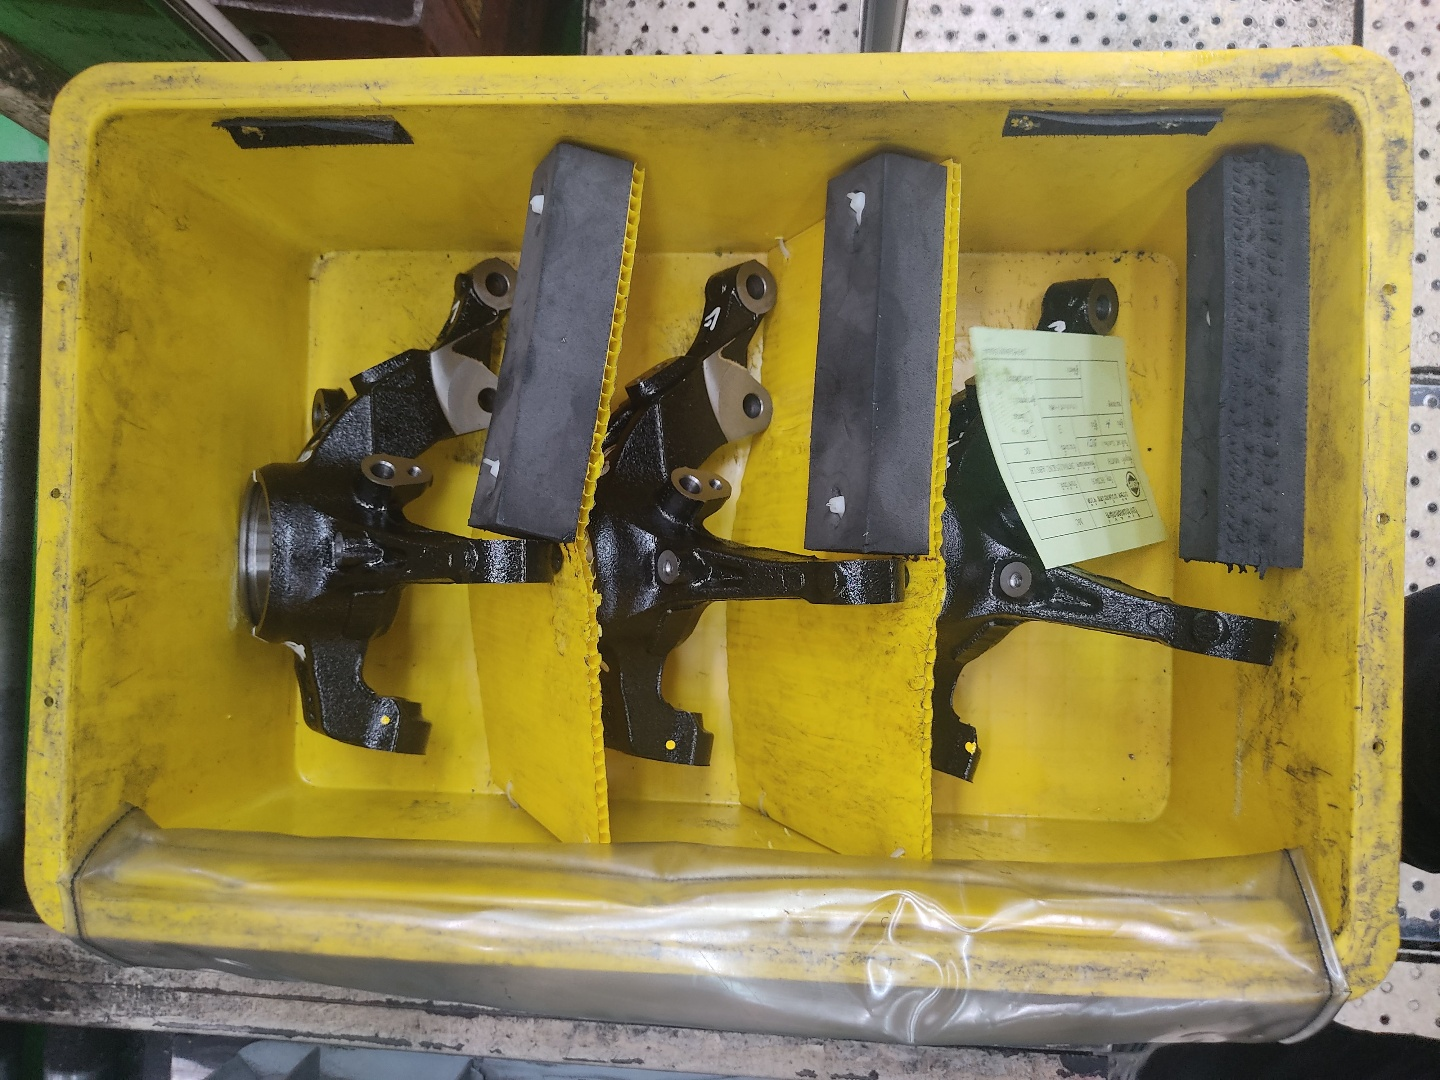abs-lh: (929, 265, 1297, 795), (226, 248, 574, 770), (583, 248, 914, 778)
